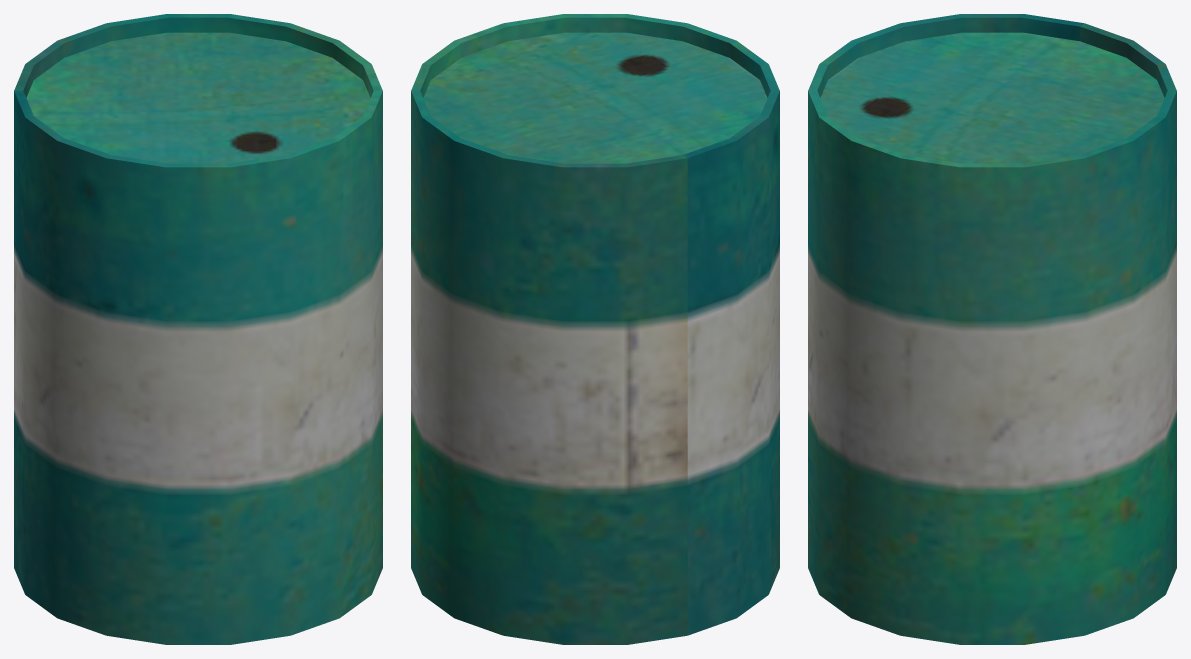
The model's file is metal_drum_1.fbx.
The picture shows the model from 3 angles, left to right: view 1: azimuth 30°, elevation 25°; view 2: azimuth 150°, elevation 25°; view 3: azimuth 270°, elevation 25°; orthographic projection.
Parts seen in each view (by area): view 1: Barrel1__4_4; view 2: Barrel1__4_4; view 3: Barrel1__4_4.
Part boxes in pixels (x1,y1,x2,y2): Barrel1__4_4: (14, 14, 382, 644); Barrel1__4_4: (411, 14, 779, 644); Barrel1__4_4: (808, 14, 1176, 644).
Size of the model in its own units: 58.27 by 84.53 by 59.17.
